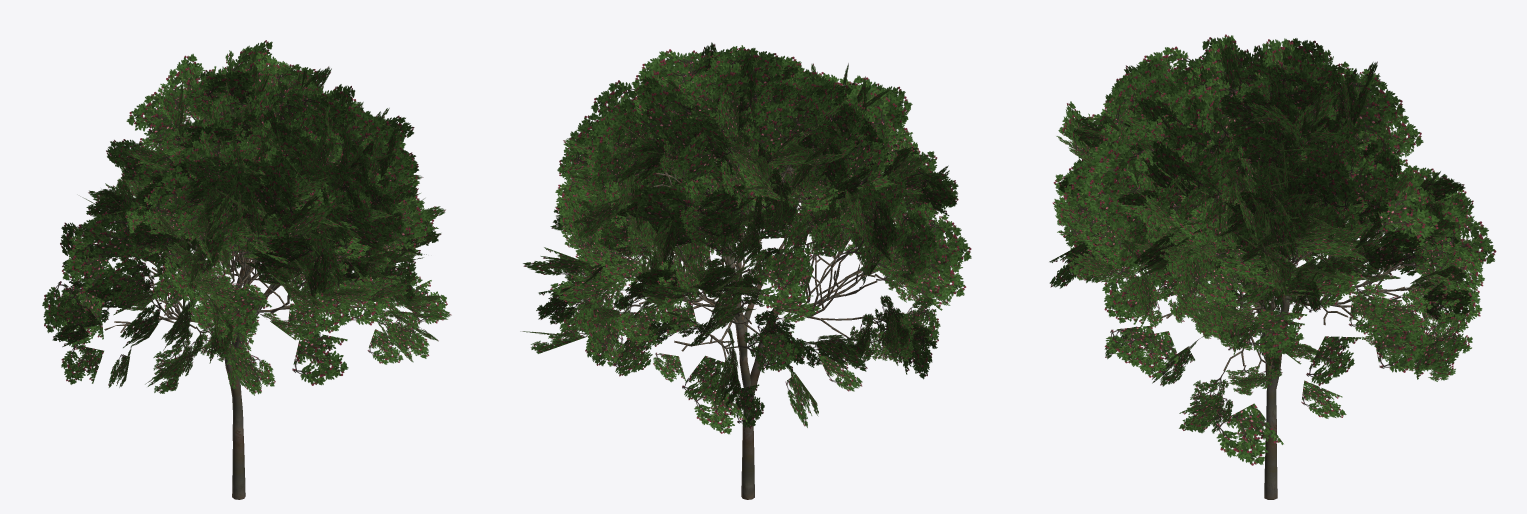
The model's file is forest-cherry-tree-v1-optimized.glb.
The picture shows the model from 3 angles, left to right: view 1: azimuth 30°, elevation 25°; view 2: azimuth 150°, elevation 25°; view 3: azimuth 270°, elevation 25°; orthographic projection. The views are drawn at different scales.
Visible parts, largest first — view 1: CherryTree; view 2: CherryTree; view 3: CherryTree.
Boxes of the visible parts, x1=… form: CherryTree: x1=42, y1=40, x2=451, y2=499; CherryTree: x1=520, y1=42, x2=971, y2=499; CherryTree: x1=1049, y1=34, x2=1496, y2=499.
Size of the model in its own units: 3.34 by 3.5 by 3.28.
Materials: 2 (2 with a texture image).
